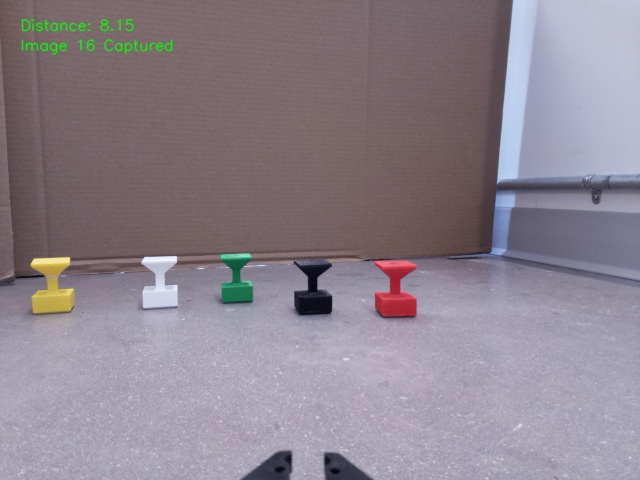block: (28, 257, 78, 314), (375, 259, 418, 318), (293, 258, 335, 315), (138, 256, 183, 309), (219, 252, 255, 303)
